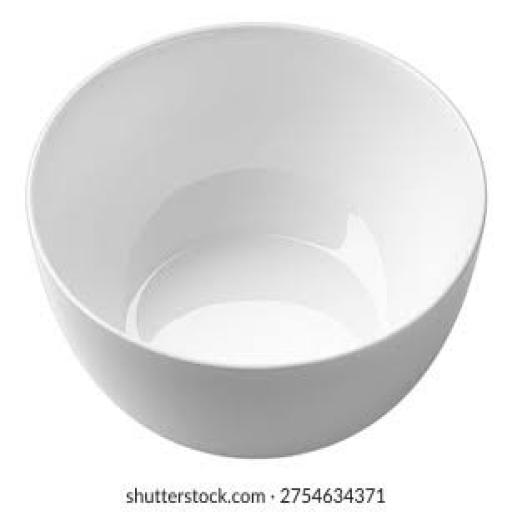Bowl: (27, 24, 485, 455)
